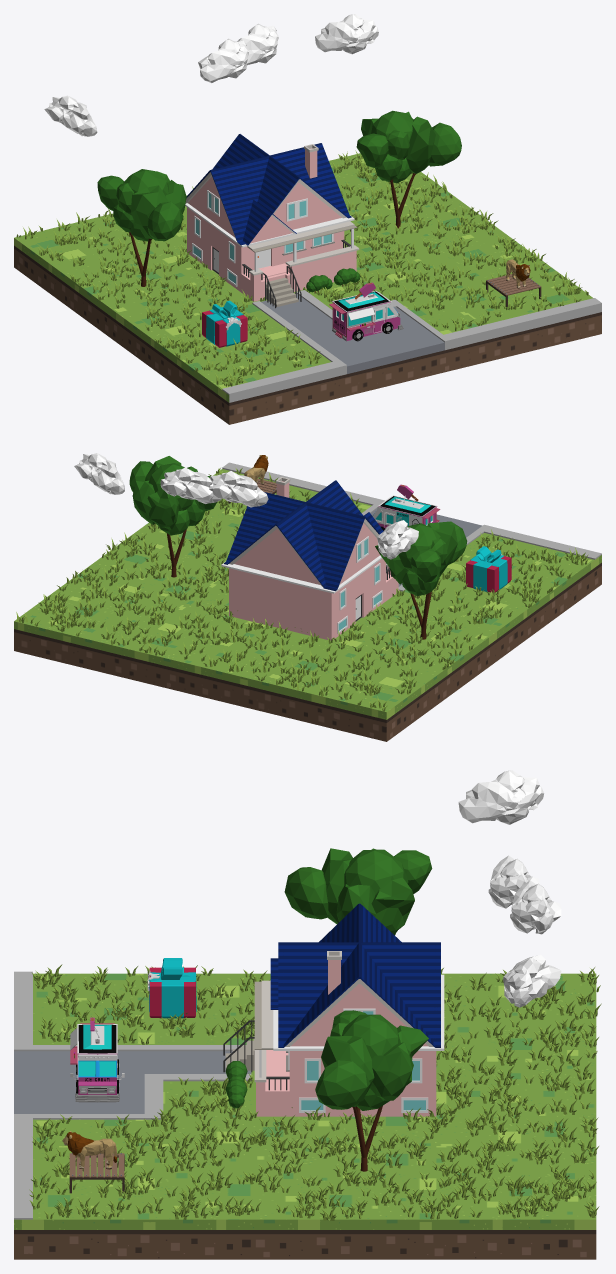
3 views of the same model, one above another, from view 1: azimuth 30°, elevation 25°; view 2: azimuth 150°, elevation 25°; view 3: azimuth 270°, elevation 25° (orthographic). The views are drawn at different scales.
Parts seen in each view (by area): view 1: Cube.006, Cube.313, Circle.012_Grass_0.192, Cube.007, tree, tree.001, VEHICLES_ICE_CREAM_TRUCK, OBJRANDOM_GIANT_PRESENT, Cube.009; view 2: Cube.006, Cube.313, Circle.012_Grass_0.192, Cube.007, tree.001, tree, VEHICLES_ICE_CREAM_TRUCK, OBJRANDOM_GIANT_PRESENT, ANIMAL_LEON; view 3: Cube.006, Circle.012_Grass_0.192, Cube.313, tree, Cube.007, tree.001, VEHICLES_ICE_CREAM_TRUCK, OBJRANDOM_GIANT_PRESENT, Cube.009, ANIMAL_LEON.
Part boxes in pixels (x1=…): Cube.006: x1=14, y1=153, x2=601, y2=424; Cube.313: x1=185, y1=134, x2=359, y2=308; Circle.012_Grass_0.192: x1=16, y1=150, x2=588, y2=386; Cube.007: x1=44, y1=14, x2=378, y2=136; tree: x1=356, y1=110, x2=461, y2=228; tree.001: x1=97, y1=169, x2=186, y2=286; VEHICLES_ICE_CREAM_TRUCK: x1=329, y1=282, x2=403, y2=341; OBJRANDOM_GIANT_PRESENT: x1=202, y1=300, x2=247, y2=347; Cube.009: x1=486, y1=274, x2=541, y2=306; Cube.006: x1=14, y1=462, x2=601, y2=741; Cube.313: x1=221, y1=477, x2=398, y2=640; Circle.012_Grass_0.192: x1=16, y1=468, x2=588, y2=711; Cube.007: x1=74, y1=453, x2=418, y2=559; tree.001: x1=375, y1=521, x2=467, y2=639; tree: x1=129, y1=456, x2=216, y2=577; VEHICLES_ICE_CREAM_TRUCK: x1=372, y1=484, x2=440, y2=530; OBJRANDOM_GIANT_PRESENT: x1=466, y1=546, x2=511, y2=592; ANIMAL_LEON: x1=244, y1=455, x2=268, y2=484; Cube.006: x1=14, y1=971, x2=596, y2=1259; Circle.012_Grass_0.192: x1=29, y1=964, x2=601, y2=1220; Cube.313: x1=223, y1=903, x2=444, y2=1116; tree: x1=315, y1=1010, x2=428, y2=1171; Cube.007: x1=458, y1=770, x2=561, y2=1007; tree.001: x1=284, y1=848, x2=432, y2=935; VEHICLES_ICE_CREAM_TRUCK: x1=70, y1=1017, x2=124, y2=1102; OBJRANDOM_GIANT_PRESENT: x1=147, y1=958, x2=196, y2=1018; Cube.009: x1=69, y1=1153, x2=124, y2=1193; ANIMAL_LEON: x1=62, y1=1131, x2=117, y2=1169.
Size of the model in its own units: 4071 by 2277 by 4040.
43 materials, 3 textured.
